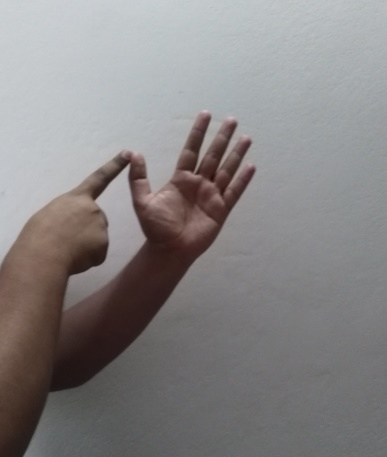a: (38, 110, 259, 276)
